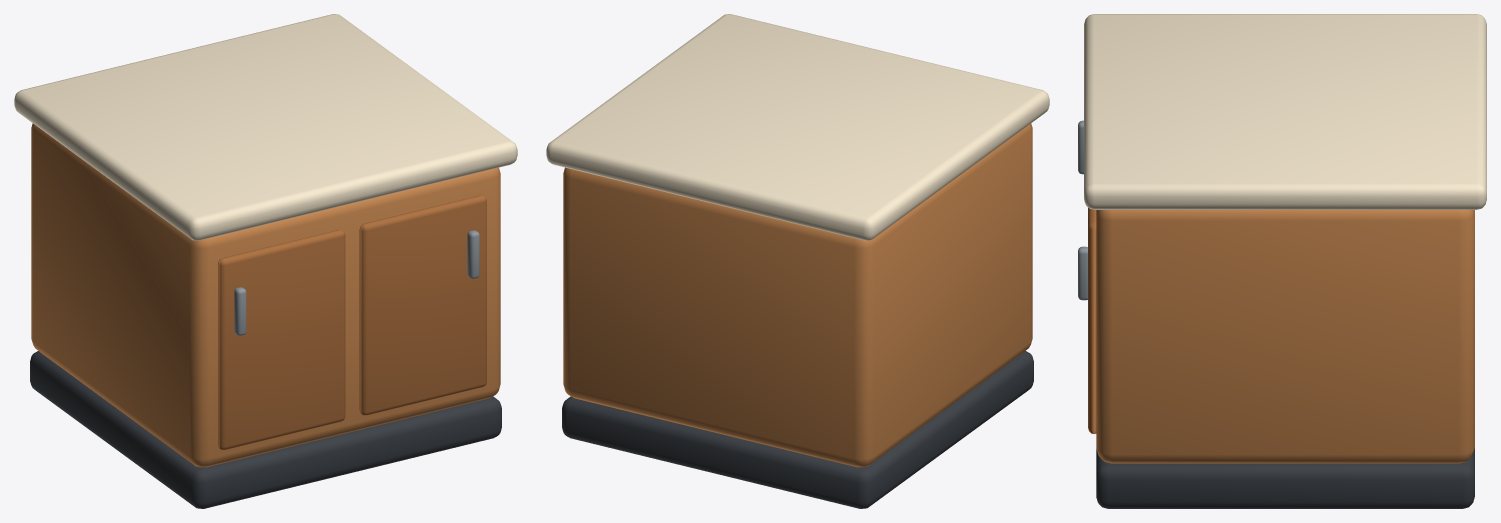
The model's file is st_counter.glb.
3 views of the same model, side by side, from view 1: azimuth 30°, elevation 25°; view 2: azimuth 150°, elevation 25°; view 3: azimuth 270°, elevation 25° (orthographic). The views are drawn at different scales.
Visible parts, largest first — view 1: counter; view 2: counter; view 3: counter.
Part boxes in pixels (x1,y1,x2,y2): counter: (14, 14, 517, 508); counter: (546, 14, 1049, 508); counter: (1078, 14, 1486, 508).
Size of the model in its own units: 1.04 by 0.905 by 1.01.
1 material, 1 textured.
